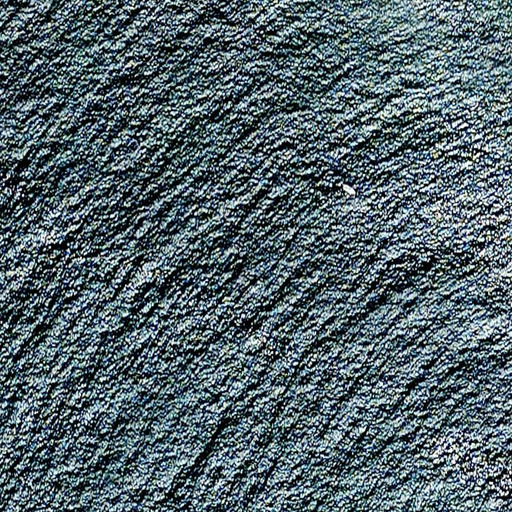ship: (341, 184, 356, 195)
